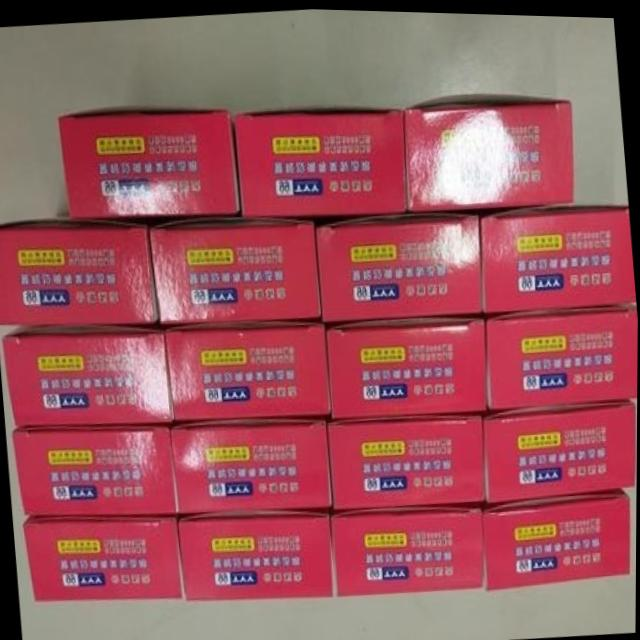box: (57, 102, 241, 220), (235, 99, 408, 222), (404, 90, 574, 215), (157, 313, 331, 423), (315, 210, 484, 321), (3, 320, 172, 430), (478, 199, 636, 313), (0, 217, 157, 327), (147, 221, 321, 320), (324, 313, 487, 418), (485, 299, 638, 405), (331, 405, 486, 507), (482, 397, 636, 499), (172, 418, 333, 514), (14, 422, 178, 514), (332, 497, 486, 594), (178, 507, 337, 600), (485, 485, 630, 586), (25, 514, 185, 600)
